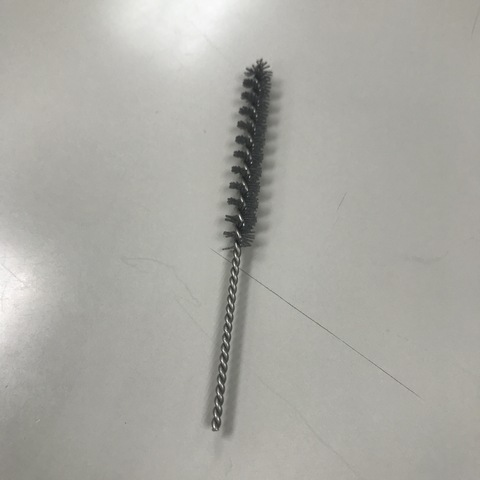Twist Brush-A: (202, 59, 282, 433)
